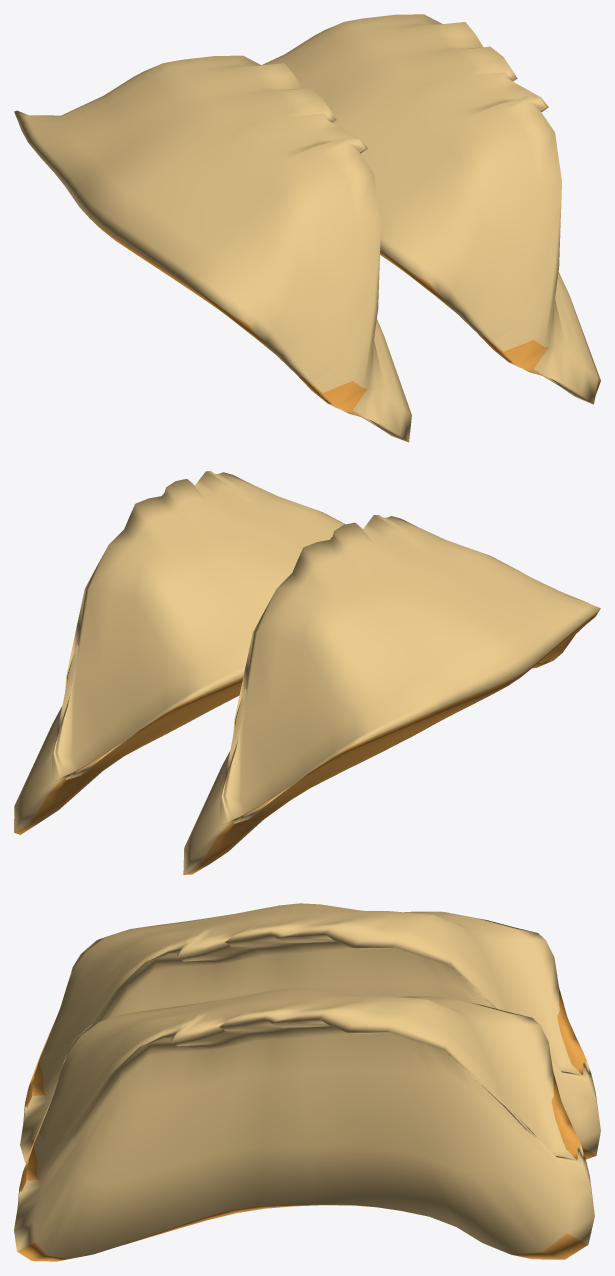
The model's file is gyouza.fbx.
The picture shows the model from 3 angles, top to bottom: view 1: azimuth 30°, elevation 25°; view 2: azimuth 150°, elevation 25°; view 3: azimuth 270°, elevation 25°; orthographic projection. The views are drawn at different scales.
Visible parts, largest first — view 1: Cube.001, Cube; view 2: Cube.001, Cube; view 3: Cube, Cube.001.
Part boxes in pixels (x1,y1,x2,y2): Cube.001: (14, 55, 411, 442); Cube: (261, 14, 600, 404); Cube.001: (183, 514, 600, 874); Cube: (14, 471, 345, 834); Cube: (14, 988, 594, 1261); Cube.001: (20, 903, 600, 1162).
Size of the model in its own units: 450 by 286 by 587.
